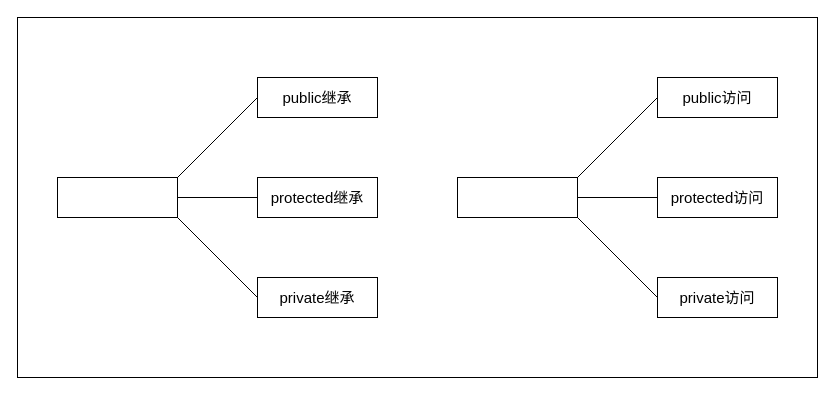
The diagram is 835 pixels wide and 395 high, and some of its shapes have lost their labels. The shapes that lost their labels are listed below. From the top down, each one's centre as x and y in pixels, then its label:
At pixel 117 197: "继承方式".
At pixel 517 197: "访问限定符".
